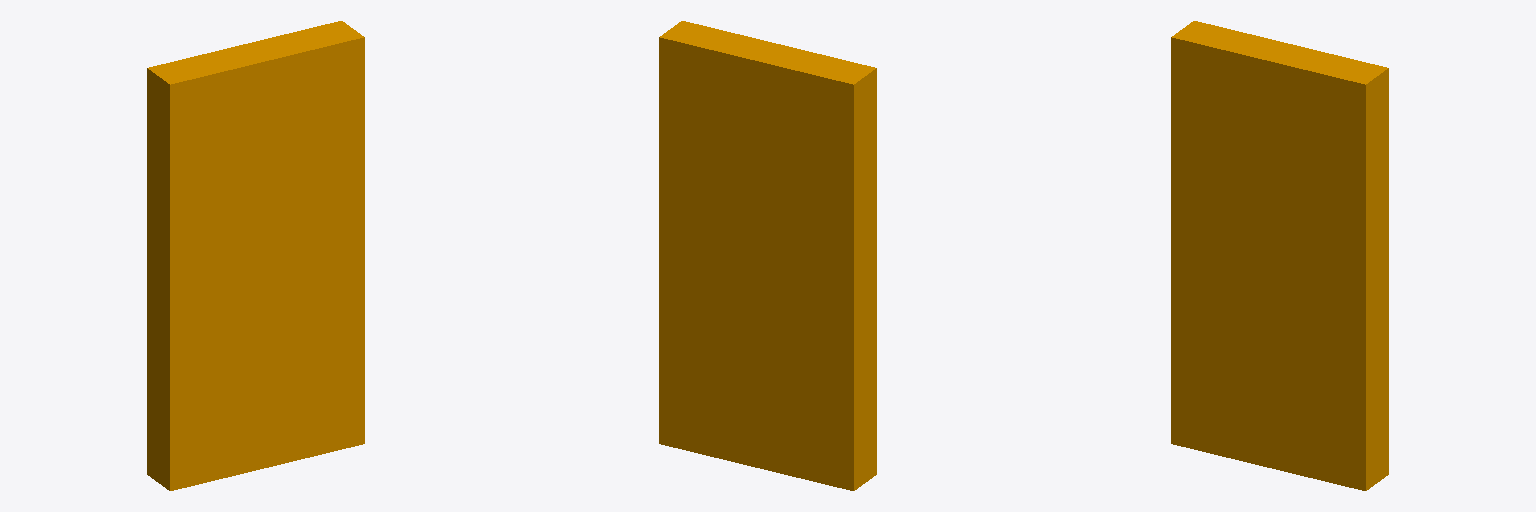
URDF robot description (obstacle_box):
<?xml version="1.0" encoding="UTF-8"?>
<robot name="obstacle_box">
	<link name="base">
		<collision>
			<geometry>
				<mesh filename="../vhacd/obstacle_box_vhacd.obj" scale="1.0 1.0 1.0"/>
			</geometry>
			<origin xyz="0 0 0"/>
			<contact_coefficients mu="0.24" />
		</collision>
		<visual>
			<geometry>
				<mesh filename="../vhacd/obstacle_box_vhacd.obj" scale="1.0 1.0 1.0"/>
			</geometry>
			<origin xyz="0 0 0"/>
		</visual>
		<inertial>
			<mass value="0"/>
			<inertia ixx="0.0" ixy="-0.0" ixz="-0.0" iyy="0.0" iyz="-0.0" izz="0.0" />
			<origin xyz="0.25 0.05000000074505806 0.5"/>
		</inertial>
	</link>
</robot>

--- Render facts (derived) ---
Views: 3 orthographic renders of the robot side by side, from view 1: azimuth 30°, elevation 25°; view 2: azimuth 150°, elevation 25°; view 3: azimuth 330°, elevation 25°.
Robot: obstacle_box — 1 links, 0 joints (none); root link base; default pose: all joints at 0.
Links seen in each view (by area): view 1: base; view 2: base; view 3: base.
Boxes of the visible links, x1,y1,x2,y2 form: base: (147,21,364,490); base: (659,21,876,490); base: (1171,21,1388,490).
Size in the robot's own frame: 0.5019 by 0.1022 by 1 metres.
Meshes: 1 distinct files referenced, 1 mesh visuals loaded (1 OBJ).